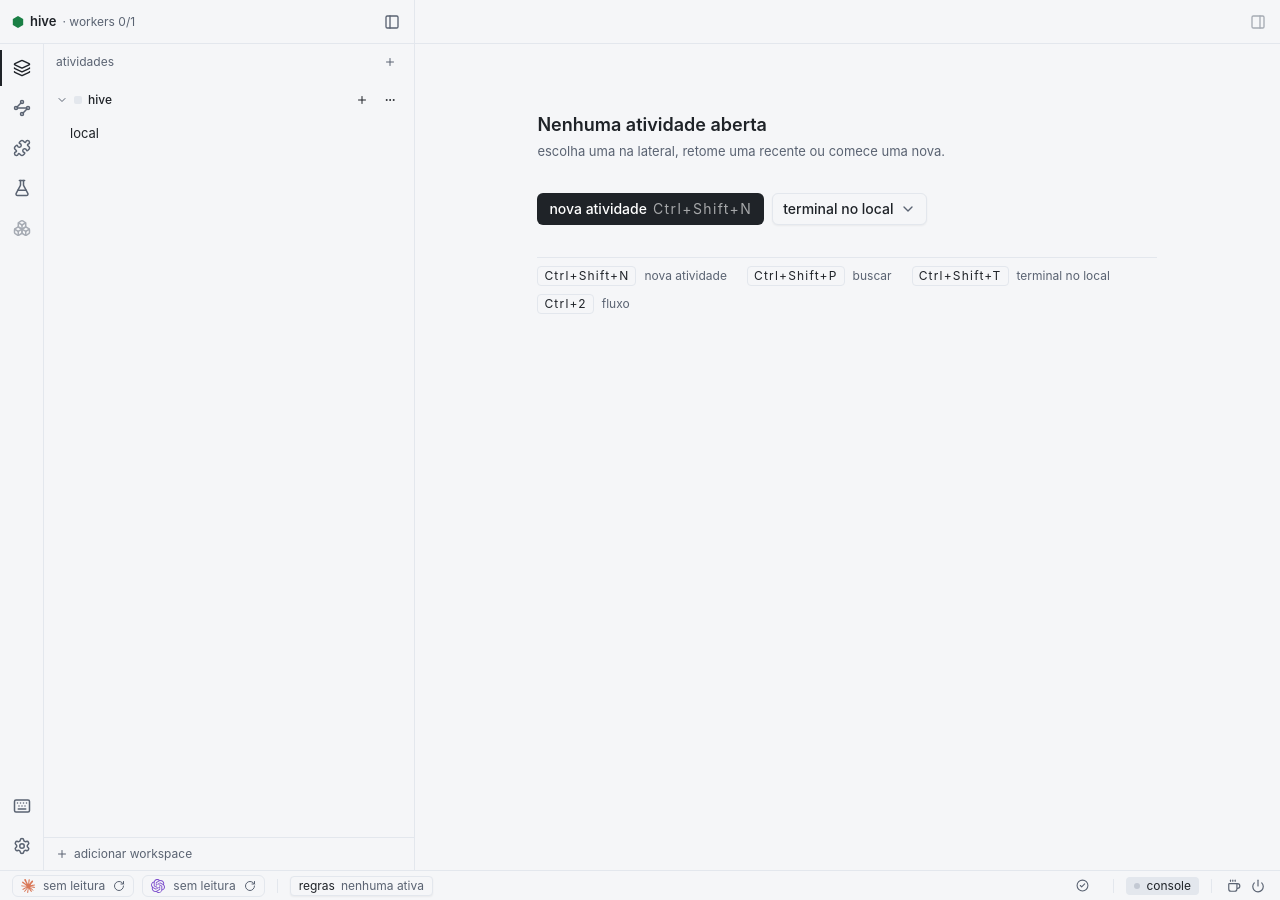
Test: a click on a stopped task opens the panel on the details panel with no Worker tab; its iniciar button only starts it
Click the button named "fluxo": (22,108) [0,90,44,126]
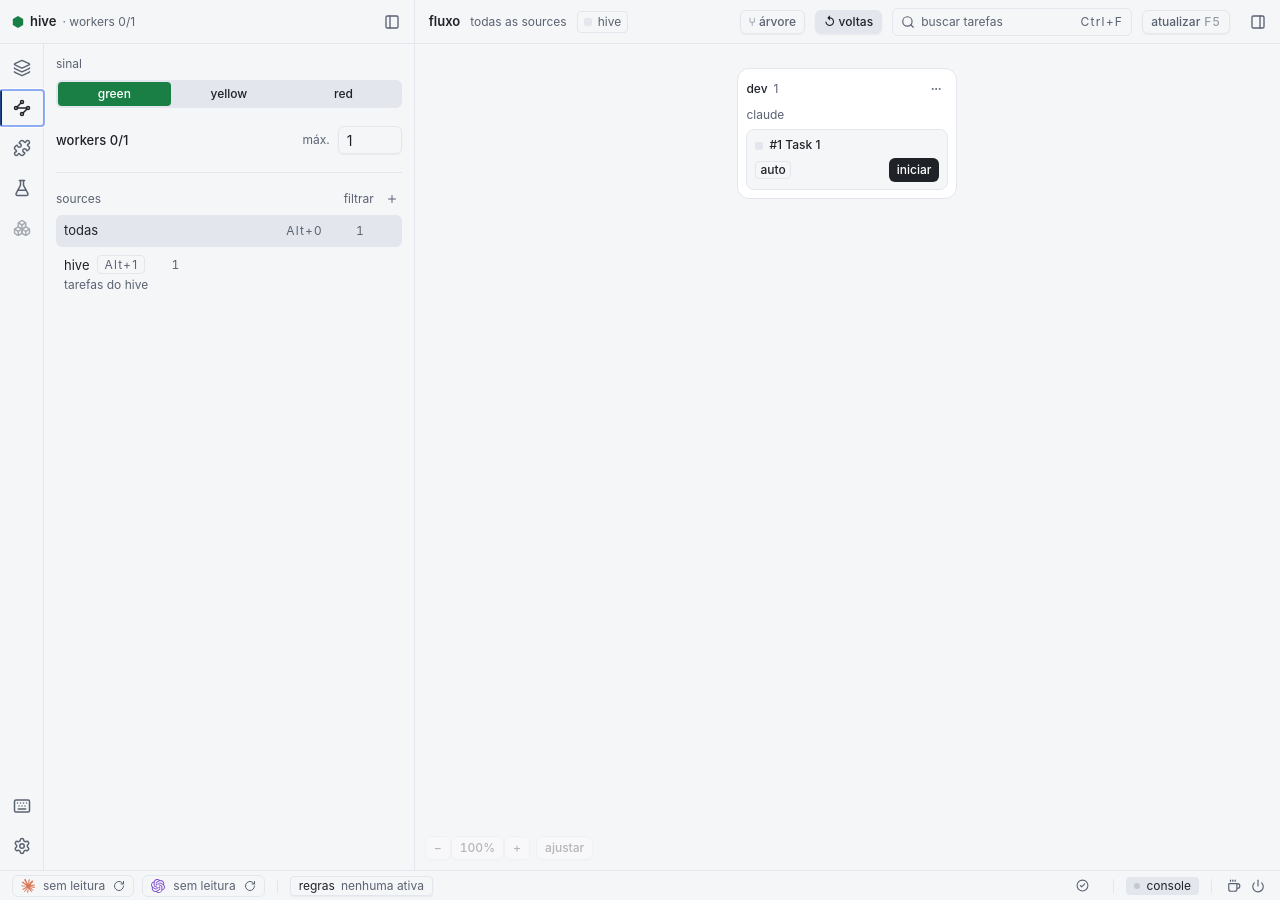
Click the button "iniciar": (914,170) [889,158,939,182]
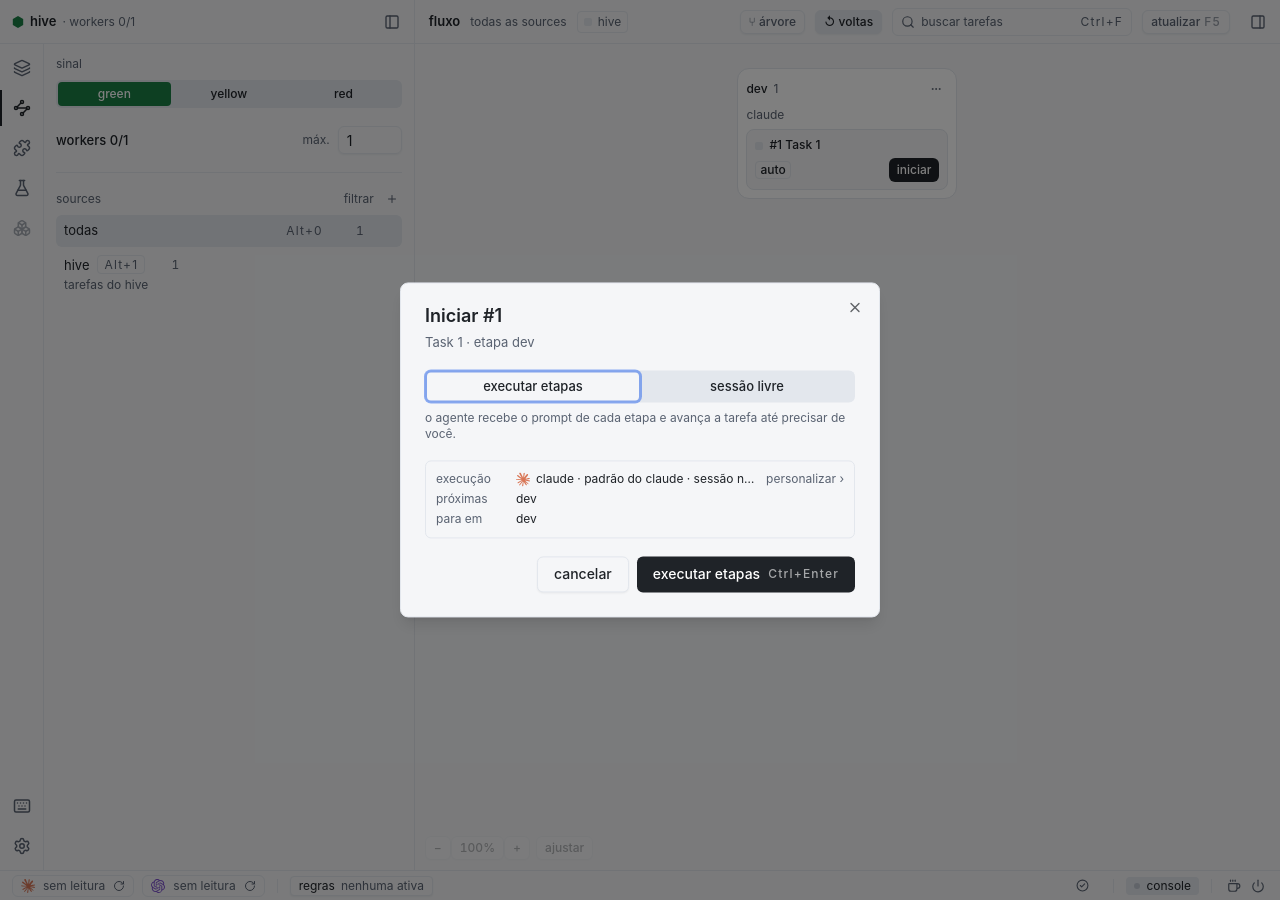
Expected: the button "executar etapas Ctrl+Enter" is enabled
Click the button "executar etapas Ctrl+Enter": (746,575) [637,557,855,593]
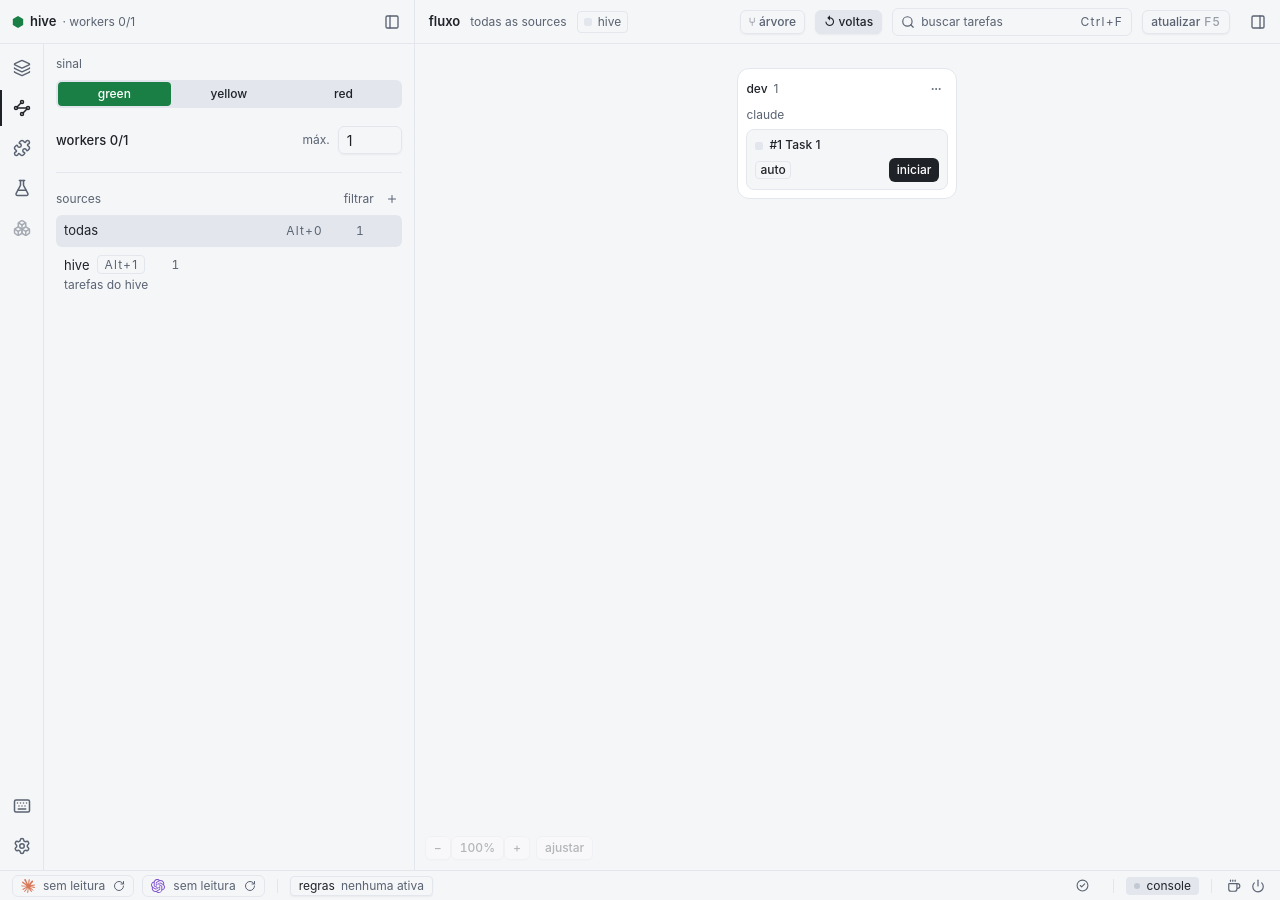
Expected: the dialog is gone
Click the text "#1 Task 1": (788,144) [755,137,820,152]
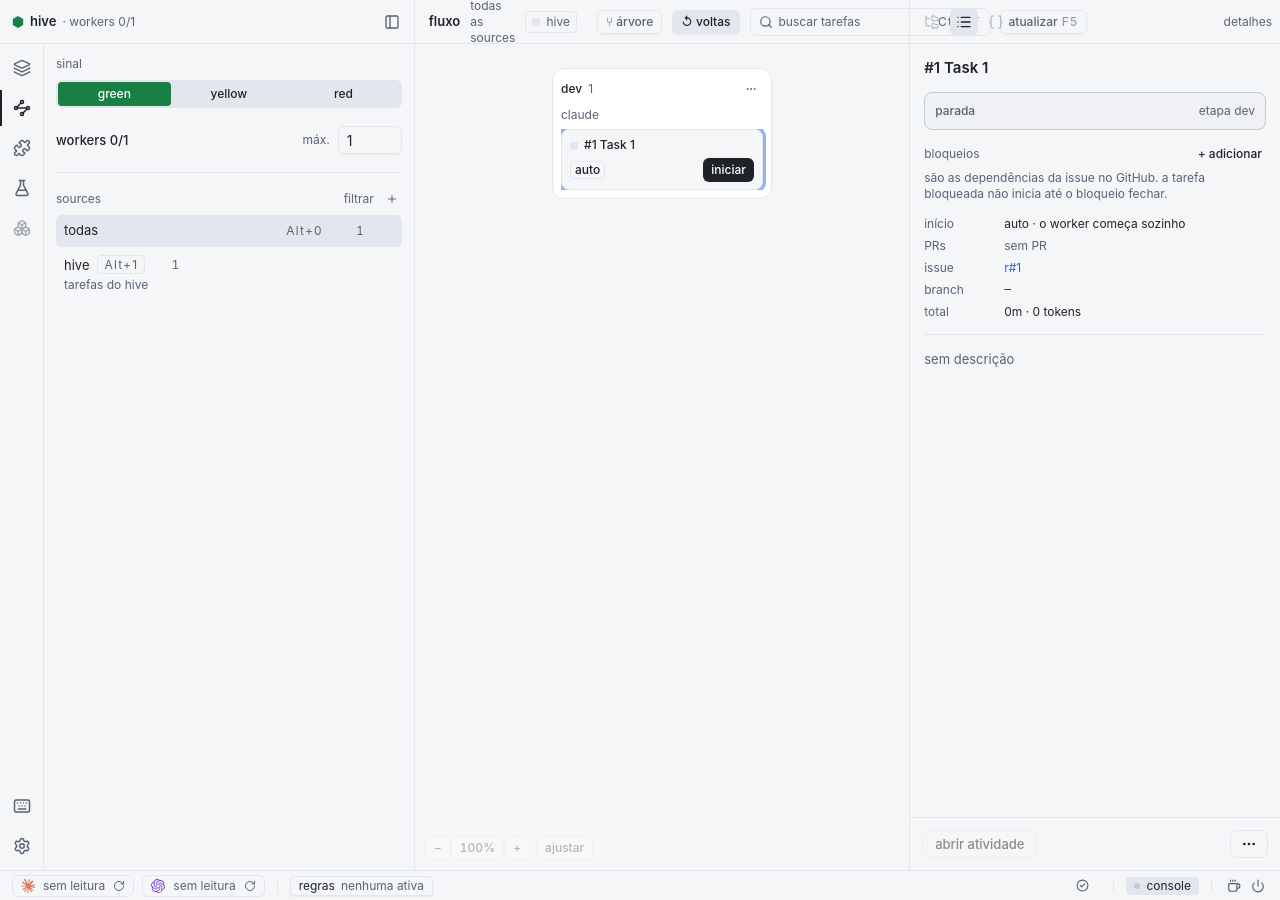
Expected: the element named "detalhe" is shown, [910,44,1279,870]
Expected: the element named "detalhe" shows "etapa dev", [1199,103,1255,118]
